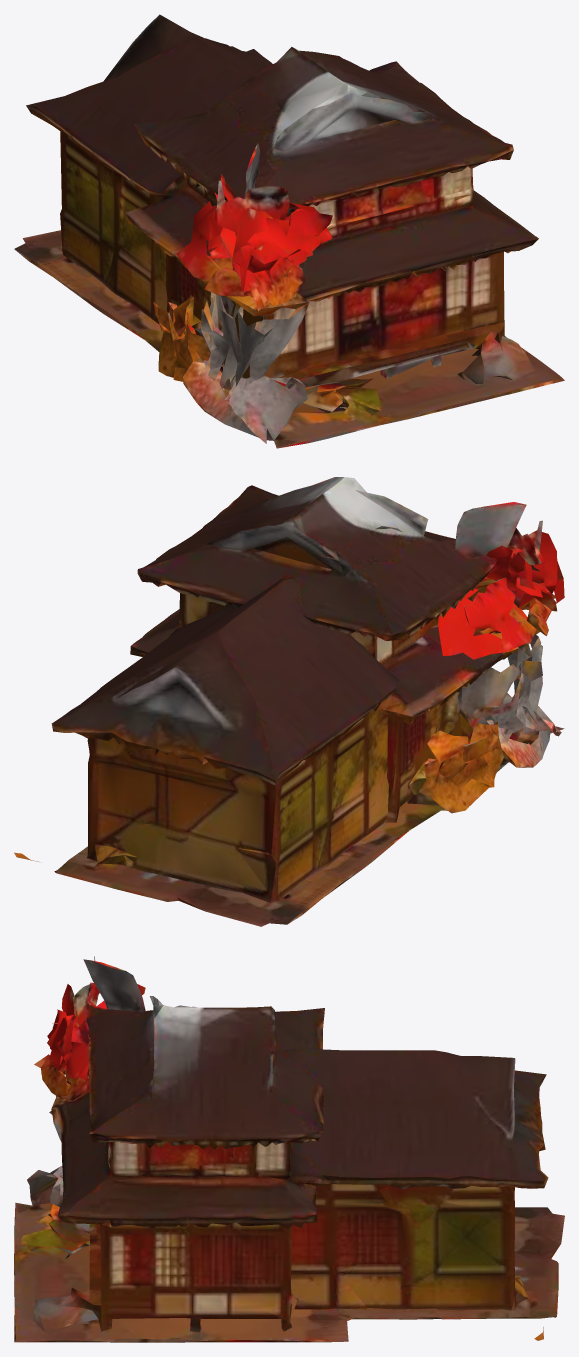
The model's file is ruriko-in.glb.
3 renders of one model, top to bottom at view 1: azimuth 30°, elevation 25°; view 2: azimuth 150°, elevation 25°; view 3: azimuth 270°, elevation 25°, orthographic.
Visible parts, largest first — view 1: logan-textured.obj; view 2: logan-textured.obj; view 3: logan-textured.obj.
Boxes of the visible parts, x1,y1,x2,y2 form: logan-textured.obj: [14, 14, 564, 448]; logan-textured.obj: [14, 477, 564, 926]; logan-textured.obj: [14, 956, 564, 1342].
Bounding box in the file's own units: 0.6486 × 0.5585 × 1.
1 material, 1 textured.
